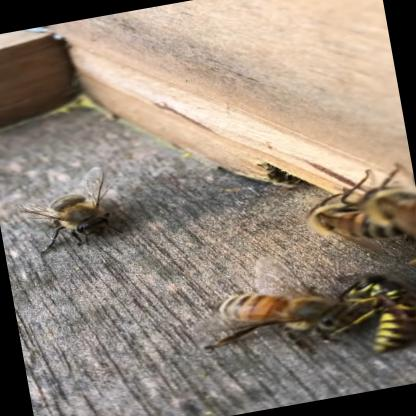bee: (0, 143, 164, 263), (192, 262, 354, 372), (276, 156, 416, 274)
hornet: (336, 256, 416, 365)
